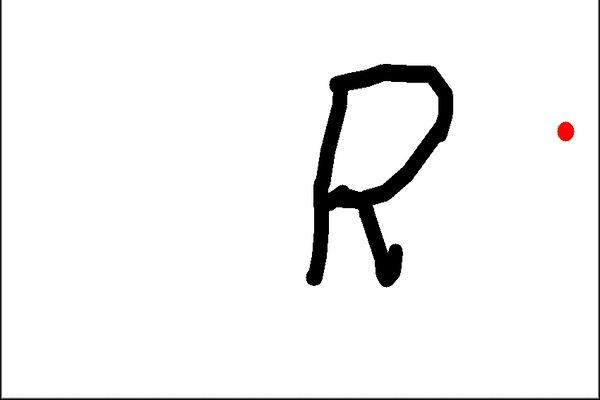R: (300, 55, 456, 288)
